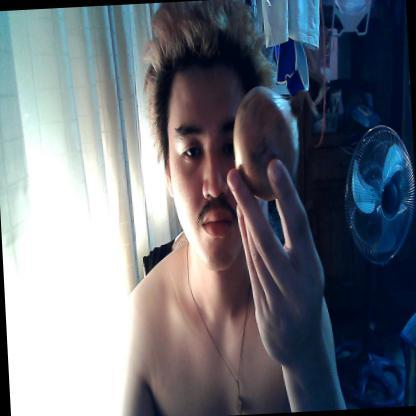onion: (228, 78, 307, 209)
